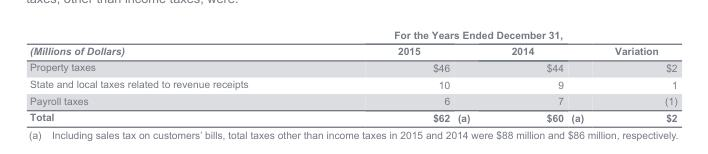table: (29, 28, 676, 123)
table column: (29, 28, 320, 123), (320, 28, 490, 123), (490, 28, 598, 123), (598, 28, 676, 123)
table column header: (29, 28, 676, 58)
table row: (29, 58, 676, 75), (29, 75, 676, 92), (29, 42, 676, 58), (29, 92, 676, 108), (29, 108, 676, 123), (29, 28, 676, 42)
table spanning cell: (29, 28, 320, 58), (320, 28, 598, 42), (598, 28, 676, 58)
